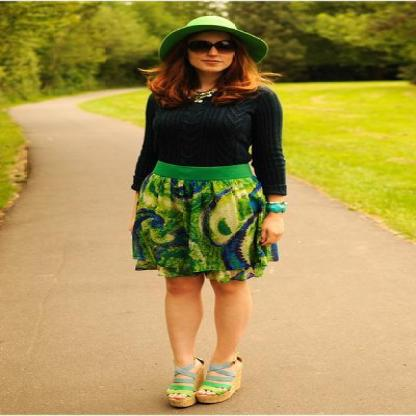hat: (164, 25, 251, 51)
jacket: (131, 88, 285, 197)
shoe: (174, 361, 230, 383)
skirt: (132, 160, 286, 284)
